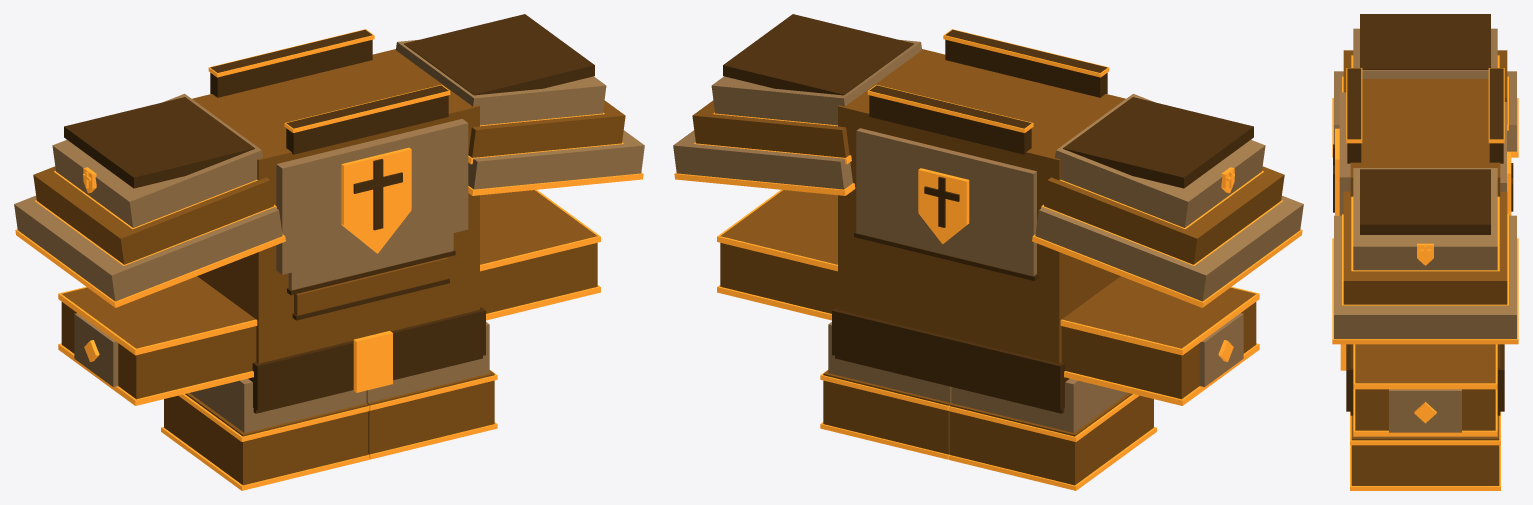
The picture shows the model from 3 angles, left to right: view 1: azimuth 30°, elevation 25°; view 2: azimuth 150°, elevation 25°; view 3: azimuth 270°, elevation 25°; orthographic projection. The views are drawn at different scales.
Visible parts, largest first — view 1: rank-tank-c; view 2: rank-tank-c; view 3: rank-tank-c.
Part boxes in pixels (left/top/right/bottom): rank-tank-c: left=14, top=14, right=644, bottom=490; rank-tank-c: left=673, top=14, right=1303, bottom=490; rank-tank-c: left=1332, top=14, right=1518, bottom=490.
Size of the model in its own units: 1.32 by 0.8337 by 0.4281.
